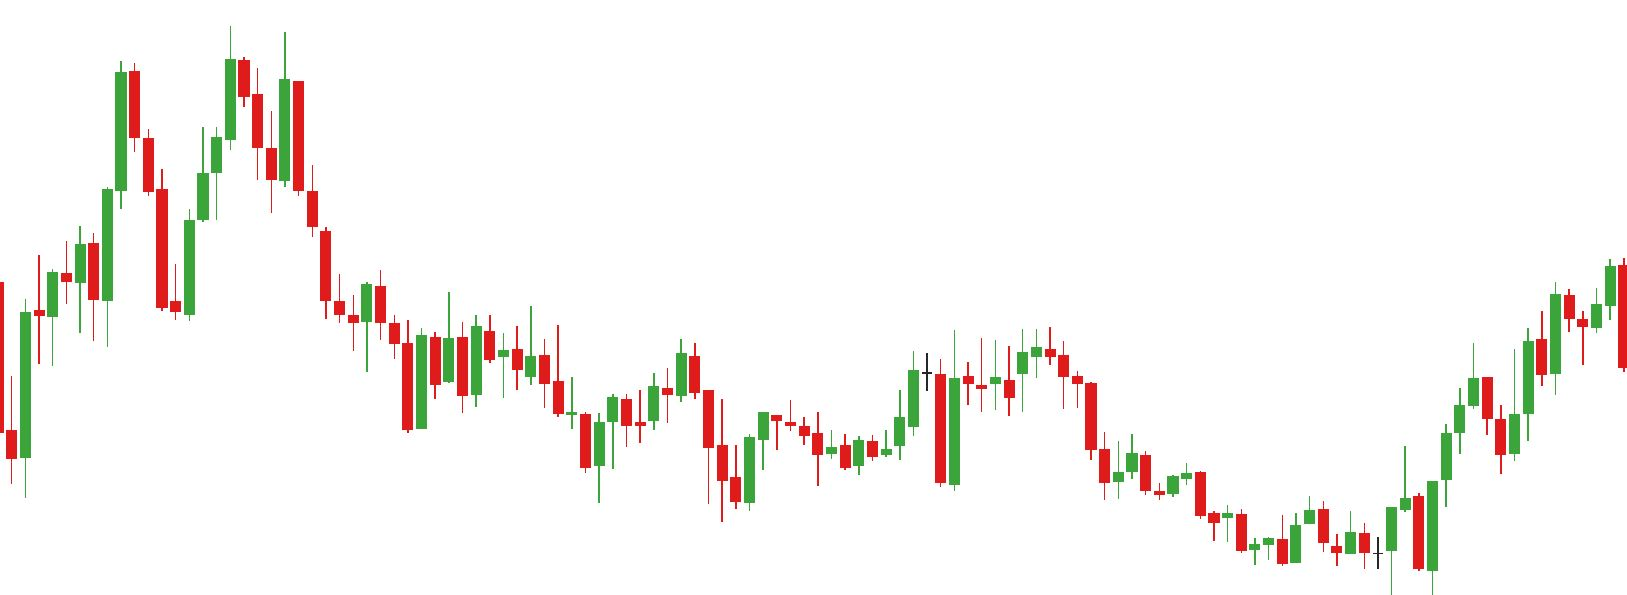buy: (583, 418, 756, 528)
sell: (113, 25, 252, 190)
